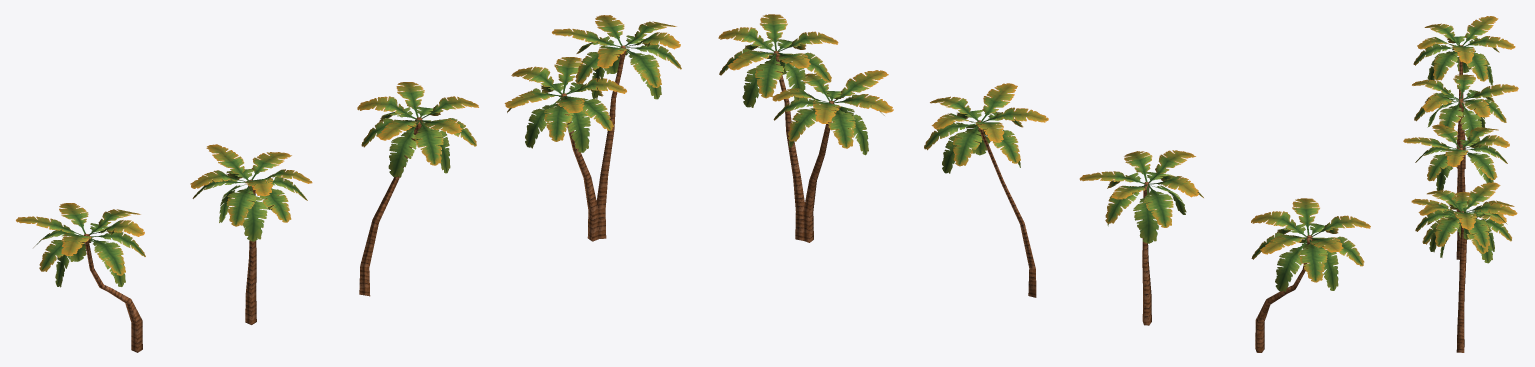
File: PalmTrees_low.fbx
3 views of the same model, side by side, from view 1: azimuth 30°, elevation 25°; view 2: azimuth 150°, elevation 25°; view 3: azimuth 270°, elevation 25° (orthographic). The views are drawn at different scales.
Parts seen in each view (by area): view 1: Leaf_4, Leaf_3, Leaf_2, Leaf_1, Bark_4, Bark_3, Bark_1, Bark_2; view 2: Leaf_4, Leaf_1, Leaf_3, Leaf_2, Bark_4, Bark_3, Bark_1, Bark_2; view 3: Leaf_4, Leaf_1, Leaf_2, Leaf_3, Bark_4, Bark_2, Bark_3, Bark_1.
Part boxes in pixels (x1,y1,x2,y2): Leaf_4: [504, 15, 681, 152]; Leaf_3: [357, 82, 478, 177]; Leaf_2: [190, 144, 312, 241]; Leaf_1: [16, 203, 145, 287]; Bark_4: [561, 45, 626, 241]; Bark_3: [359, 117, 422, 296]; Bark_1: [84, 233, 142, 352]; Bark_2: [245, 179, 256, 324]; Leaf_4: [718, 14, 893, 155]; Leaf_1: [1251, 198, 1370, 291]; Leaf_3: [924, 83, 1048, 173]; Leaf_2: [1079, 150, 1203, 243]; Bark_4: [773, 50, 834, 242]; Bark_3: [976, 120, 1036, 297]; Bark_1: [1255, 235, 1312, 352]; Bark_2: [1142, 182, 1151, 325]; Leaf_4: [1411, 182, 1517, 263]; Leaf_1: [1413, 16, 1515, 85]; Leaf_2: [1412, 74, 1518, 147]; Leaf_3: [1403, 124, 1509, 191]; Bark_4: [1456, 211, 1466, 352]; Bark_2: [1456, 99, 1465, 211]; Bark_3: [1456, 147, 1462, 259]; Bark_1: [1456, 45, 1465, 168].
Size of the model in its own units: 17098 by 5075 by 3353.
